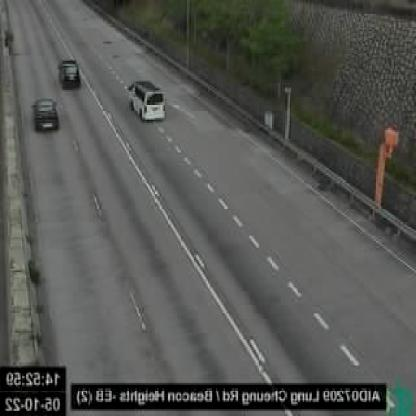Car: (131, 80, 168, 121), (34, 97, 60, 130), (60, 57, 80, 88)
